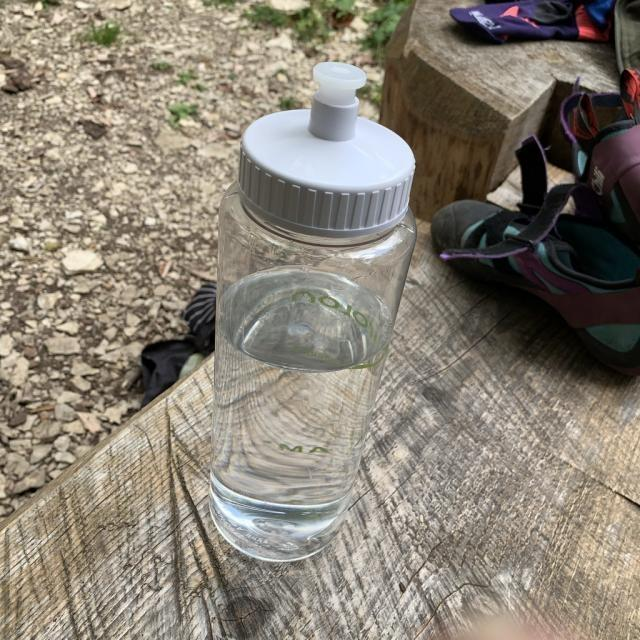water: (211, 279, 384, 539)
